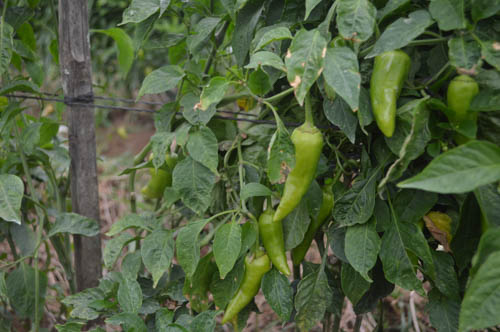ChiliPepper: (272, 129, 323, 226), (219, 254, 271, 329), (292, 191, 338, 268), (370, 51, 408, 141), (450, 77, 479, 147), (145, 152, 181, 206), (258, 212, 288, 276)
